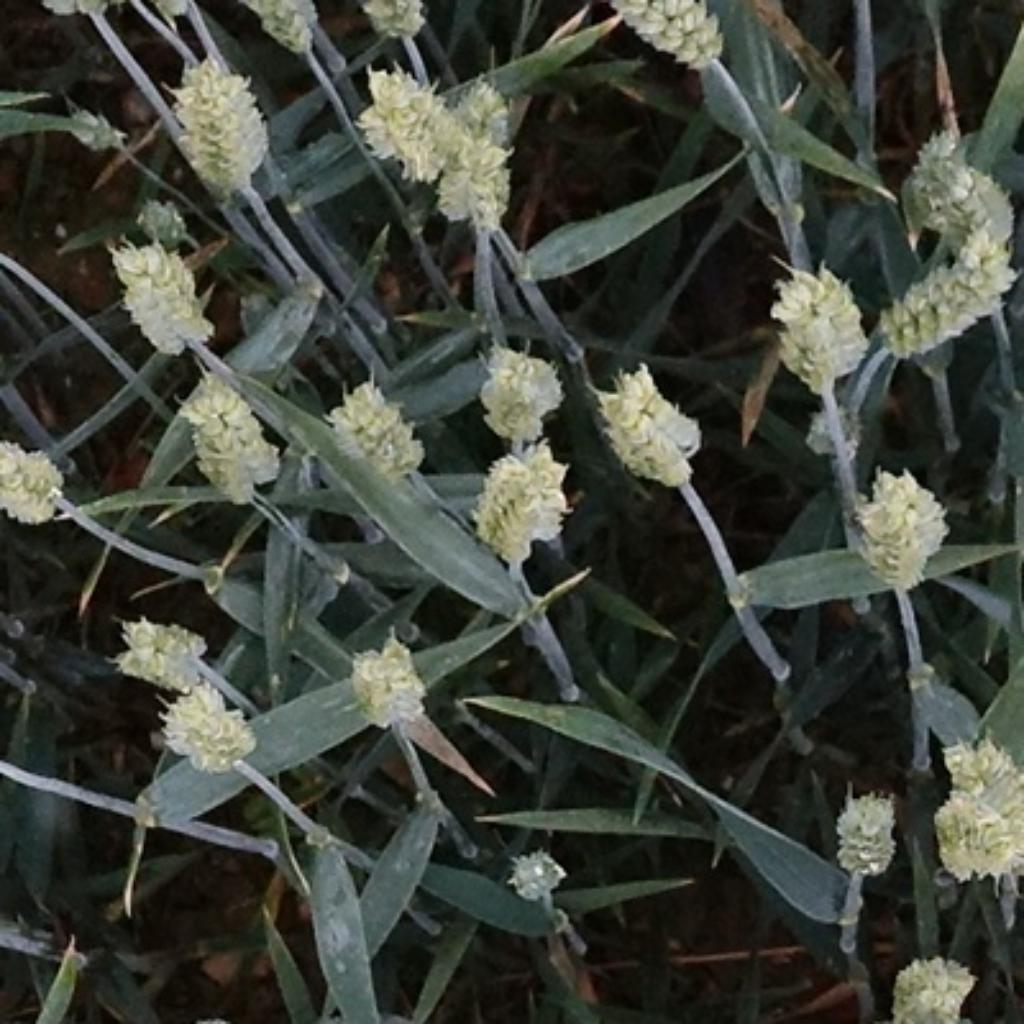0-0: (168, 358, 283, 517), (870, 253, 1023, 360), (163, 43, 271, 194), (757, 250, 870, 389), (345, 61, 455, 202), (588, 353, 706, 483), (839, 455, 954, 583), (102, 225, 212, 350), (467, 439, 577, 562), (153, 673, 264, 788), (322, 368, 427, 476), (944, 716, 1024, 850), (927, 140, 1018, 252), (468, 332, 565, 435), (335, 627, 432, 727), (444, 70, 533, 178), (110, 604, 217, 688), (609, 2, 732, 71), (427, 133, 515, 229), (933, 798, 1017, 891), (897, 123, 971, 225), (824, 778, 903, 872), (884, 951, 979, 1023), (2, 442, 76, 532), (56, 97, 135, 166), (499, 837, 577, 906), (128, 189, 196, 259), (253, 2, 330, 58), (798, 403, 864, 467), (355, 2, 437, 40)
